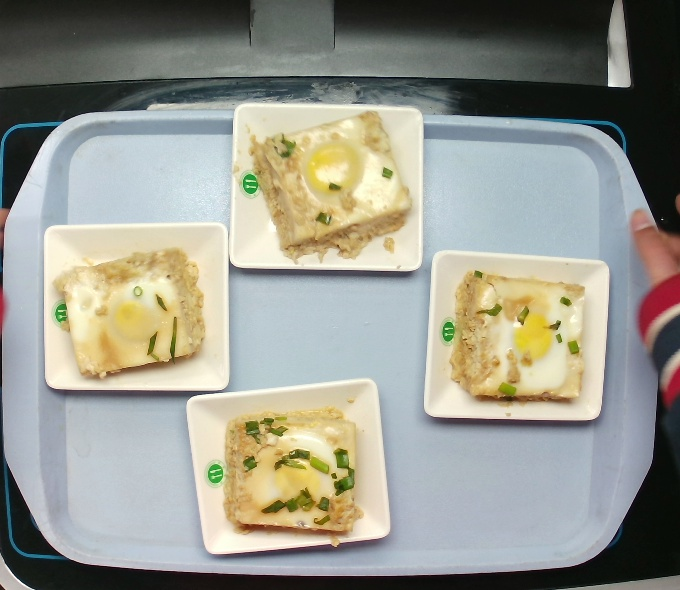wcq-RouMoZhengDan: (243, 107, 415, 266), (48, 234, 216, 385), (219, 390, 371, 551), (446, 267, 587, 413)
